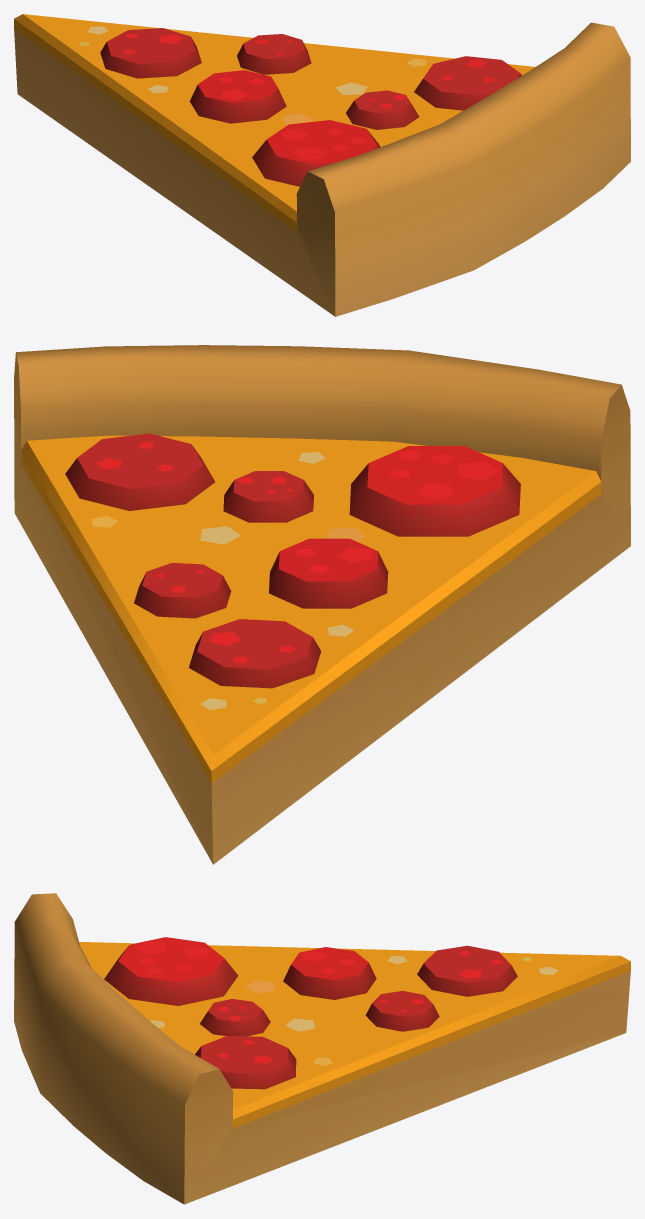
Rendered from PizzaSlice_A.fbx.
The picture shows the model from 3 angles, top to bottom: view 1: azimuth 30°, elevation 25°; view 2: azimuth 150°, elevation 25°; view 3: azimuth 270°, elevation 25°; orthographic projection. The views are drawn at different scales.
Visible parts, largest first — view 1: PizzaSlice_A; view 2: PizzaSlice_A; view 3: PizzaSlice_A.
Part boxes in pixels (<box>): PizzaSlice_A: <box>14,14,630,316</box>; PizzaSlice_A: <box>14,345,630,864</box>; PizzaSlice_A: <box>14,893,630,1204</box>.
Size of the model in its own units: 18.48 by 6.42 by 26.24.
